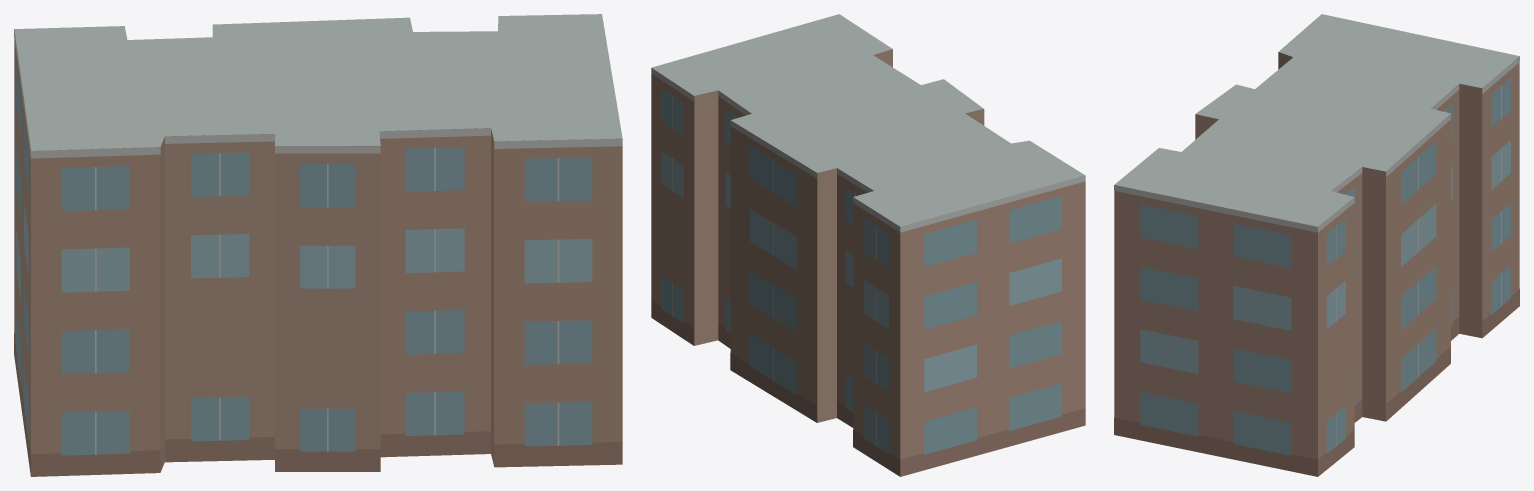
File: survey-upis-32997895.glb
3 renders of one model, left to right at view 1: azimuth 30°, elevation 25°; view 2: azimuth 150°, elevation 25°; view 3: azimuth 270°, elevation 25°, orthographic. The views are drawn at different scales.
Visible parts, largest first — view 1: survey-upis-32997895.tmp; view 2: survey-upis-32997895.tmp; view 3: survey-upis-32997895.tmp.
Part boxes in pixels (box(x1,y1,x2,y2)): survey-upis-32997895.tmp: box(14, 14, 622, 476); survey-upis-32997895.tmp: box(651, 14, 1085, 476); survey-upis-32997895.tmp: box(1114, 14, 1519, 476).
Bounding box in the file's own units: 18.99 × 10.4 × 15.3.
